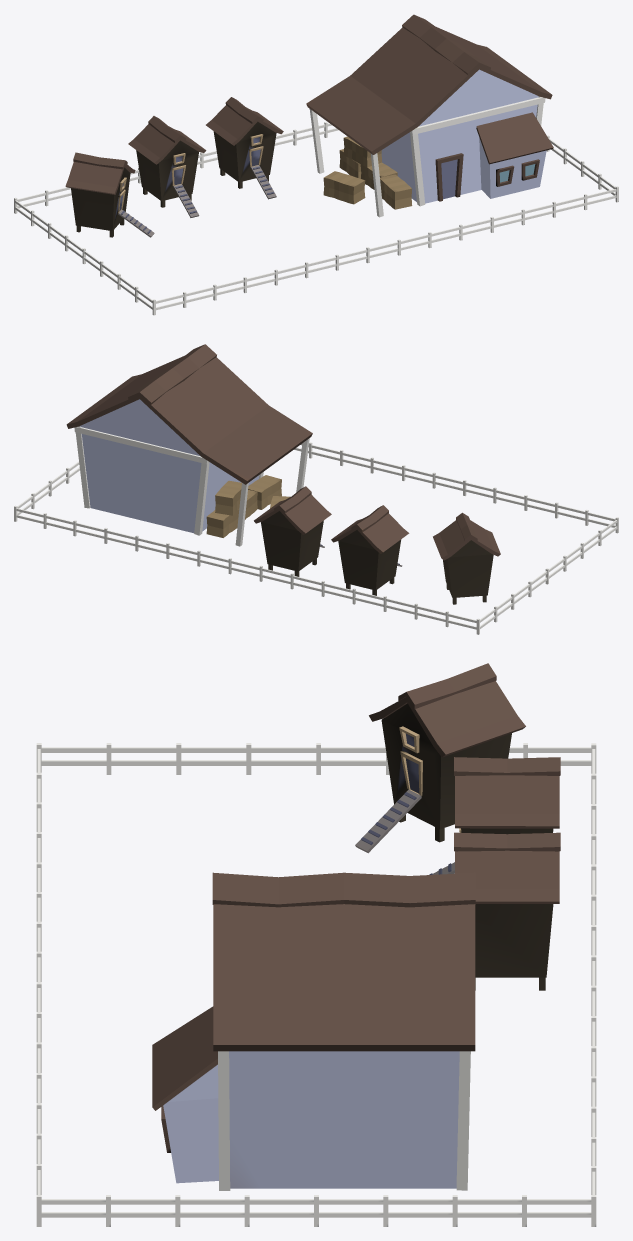
File: chicken farm.fbx
3 renders of one model, top to bottom at view 1: azimuth 30°, elevation 25°; view 2: azimuth 150°, elevation 25°; view 3: azimuth 270°, elevation 25°, orthographic. The views are drawn at different scales.
Visible parts, largest first — view 1: chicken farm; view 2: chicken farm; view 3: chicken farm.
Boxes of the visible parts, x1,y1,x2,y2 form: chicken farm: [14, 14, 618, 315]; chicken farm: [14, 344, 618, 634]; chicken farm: [36, 663, 596, 1226].
Bounding box in the file's own units: 2293 × 623 × 1195.
